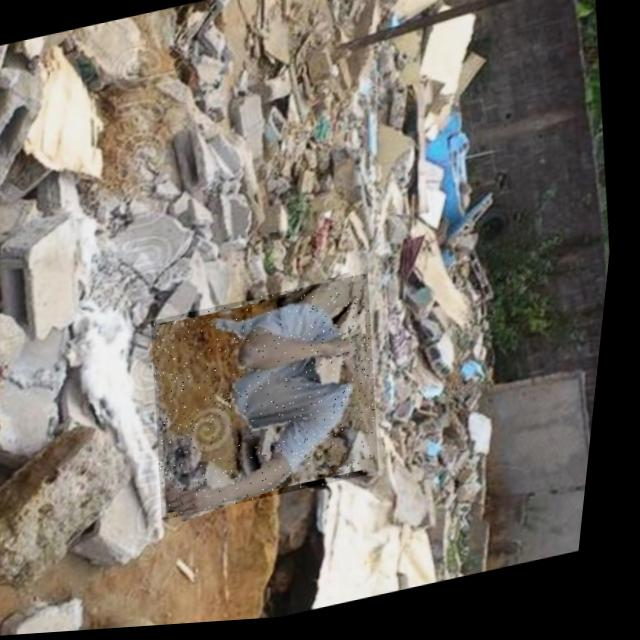Person in Rubble: (141, 277, 405, 525)
